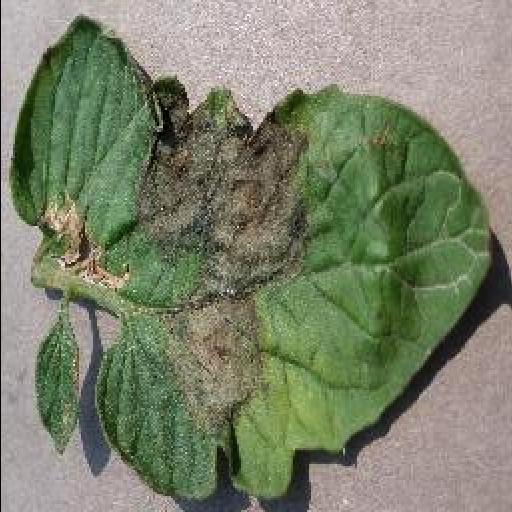disease_tomato: (0, 16, 498, 504)
